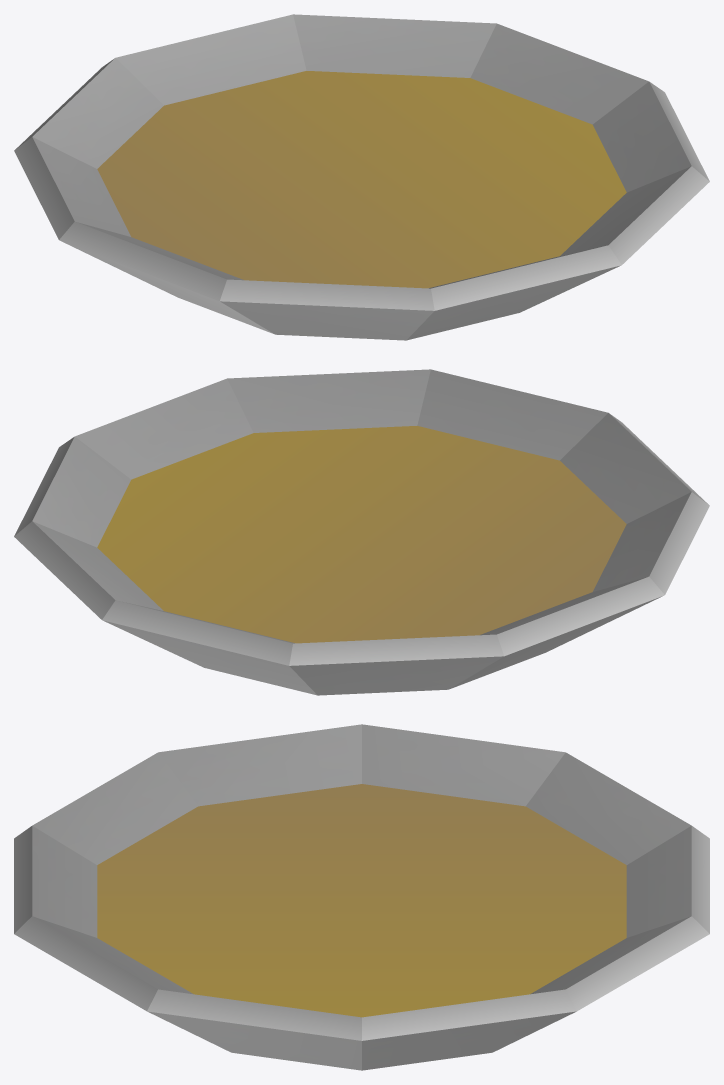
The model's file is PlateSoup.fbx.
3 views of the same model, one above another, from view 1: azimuth 30°, elevation 25°; view 2: azimuth 150°, elevation 25°; view 3: azimuth 270°, elevation 25° (orthographic). The views are drawn at different scales.
Visible parts, largest first — view 1: PlateSoup; view 2: PlateSoup; view 3: PlateSoup.
Part boxes in pixels (x1,y1,x2,y2): PlateSoup: (14, 14, 709, 340); PlateSoup: (14, 369, 709, 695); PlateSoup: (14, 724, 709, 1070).
Bounding box in the file's own units: 0.3677 × 0.0587 × 0.3497.
